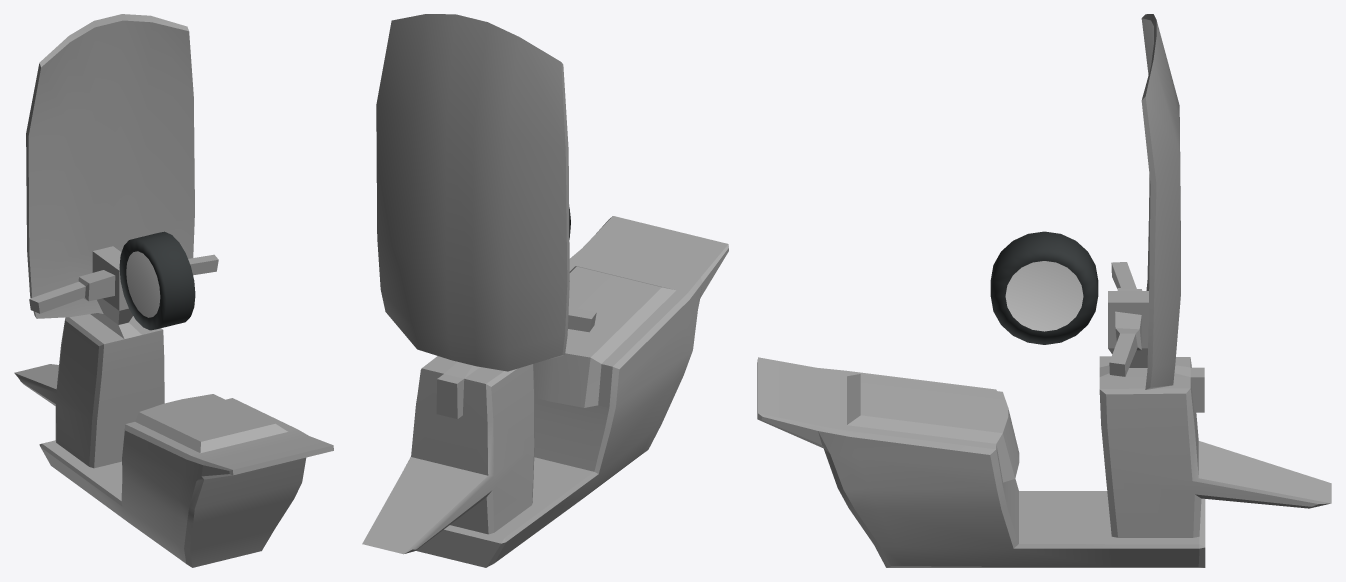
Rendered from scooter 2.fbx.
3 renders of one model, left to right at view 1: azimuth 30°, elevation 25°; view 2: azimuth 150°, elevation 25°; view 3: azimuth 270°, elevation 25°, orthographic. The views are drawn at different scales.
Parts seen in each view (by area): view 1: scooter_2, scooter_2_wheel; view 2: scooter_2; view 3: scooter_2, scooter_2_wheel.
Part boxes in pixels (x1=…): scooter_2: x1=14, y1=14, x2=333, y2=567; scooter_2_wheel: x1=119, y1=231, x2=195, y2=330; scooter_2: x1=362, y1=14, x2=728, y2=567; scooter_2: x1=757, y1=14, x2=1331, y2=567; scooter_2_wheel: x1=990, y1=231, x2=1098, y2=344.
Bounding box in the file's own units: 55.02 × 130 × 130.
2 materials, 1 textured.
